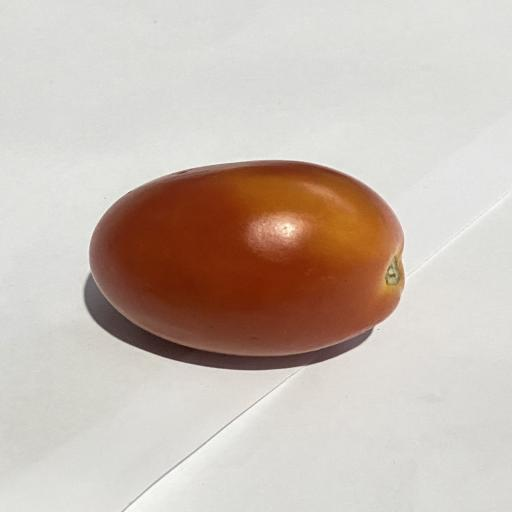ripe: (90, 161, 404, 355)
